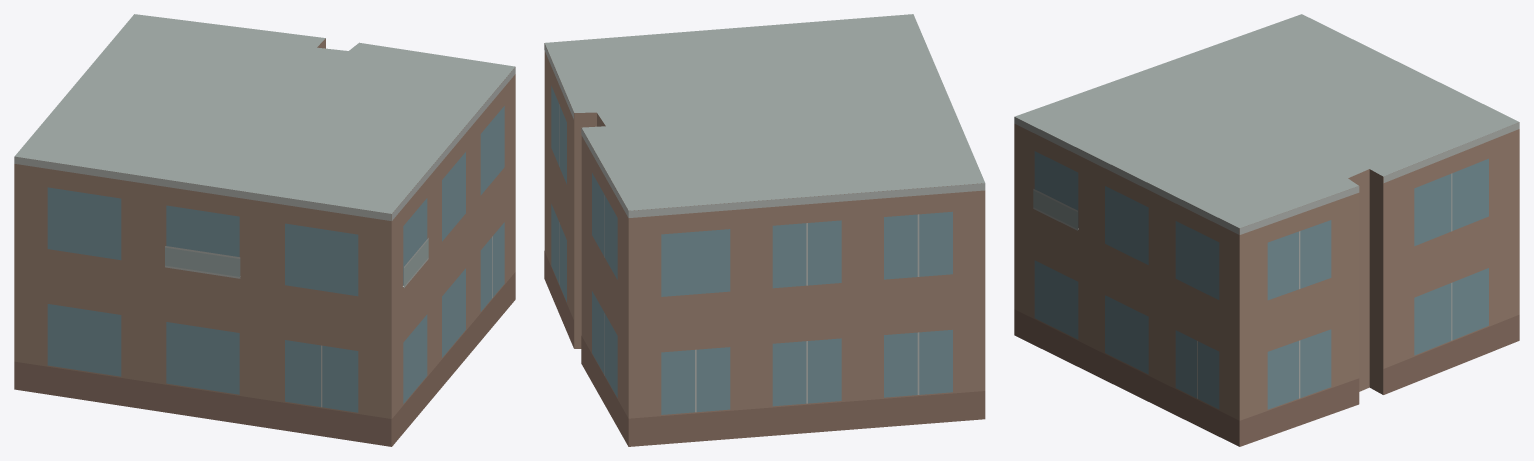
File: survey-upis-32966048.glb
The picture shows the model from 3 angles, left to right: view 1: azimuth 30°, elevation 25°; view 2: azimuth 150°, elevation 25°; view 3: azimuth 270°, elevation 25°; orthographic projection. The views are drawn at different scales.
Parts seen in each view (by area): view 1: survey-upis-32966048.tmp; view 2: survey-upis-32966048.tmp; view 3: survey-upis-32966048.tmp.
Part boxes in pixels (x1,y1,x2,y2): survey-upis-32966048.tmp: (14, 14, 515, 446); survey-upis-32966048.tmp: (544, 14, 985, 446); survey-upis-32966048.tmp: (1014, 14, 1519, 446).
Bounding box in the file's own units: 16.52 × 7.85 × 16.46.
